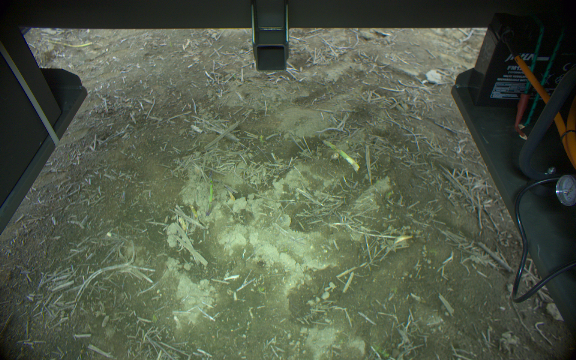aspa: (318, 136, 360, 172), (205, 168, 217, 218)
